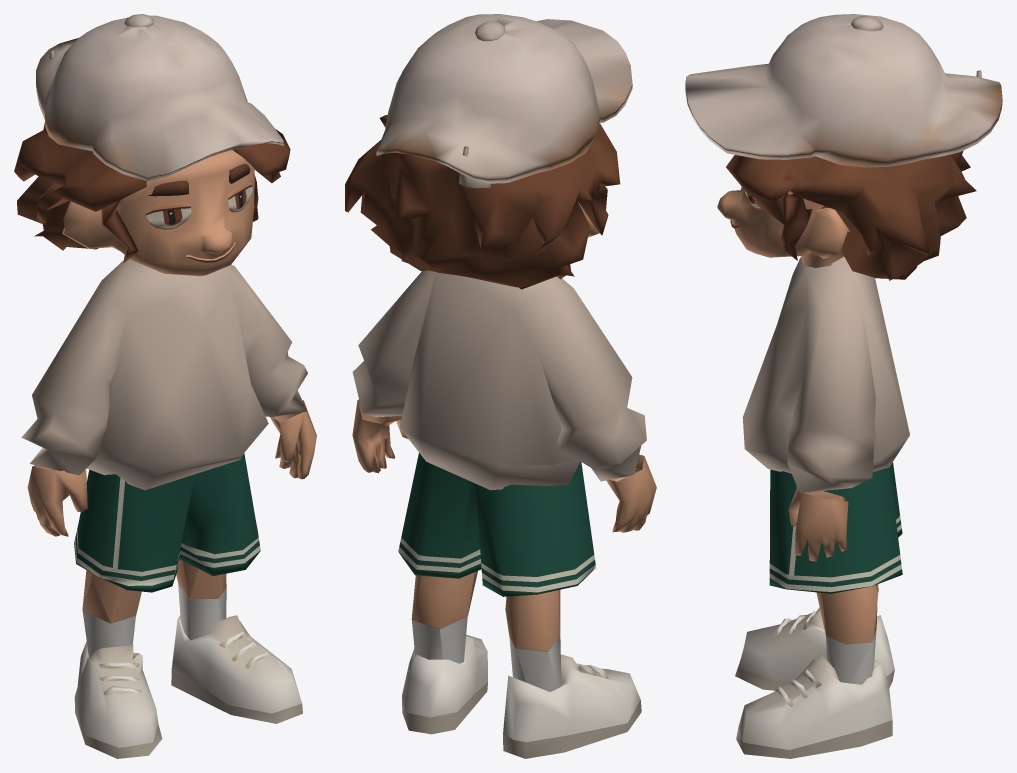
File: host_q_tripo_p20_r2s2_capped.glb
The picture shows the model from 3 angles, left to right: view 1: azimuth 30°, elevation 25°; view 2: azimuth 150°, elevation 25°; view 3: azimuth 270°, elevation 25°; orthographic projection. The views are drawn at different scales.
Parts seen in each view (by area): view 1: HostBody, HostCap; view 2: HostBody, HostCap; view 3: HostBody, HostCap.
Part boxes in pixels (x1,y1,x2,y2): HostBody: (14, 122, 316, 758); HostCap: (36, 14, 283, 181); HostBody: (345, 114, 656, 758); HostCap: (376, 14, 632, 188); HostBody: (717, 150, 976, 758); HostCap: (685, 14, 1002, 167).
Size of the model in its own units: 0.5683 by 1.32 by 0.5536.
